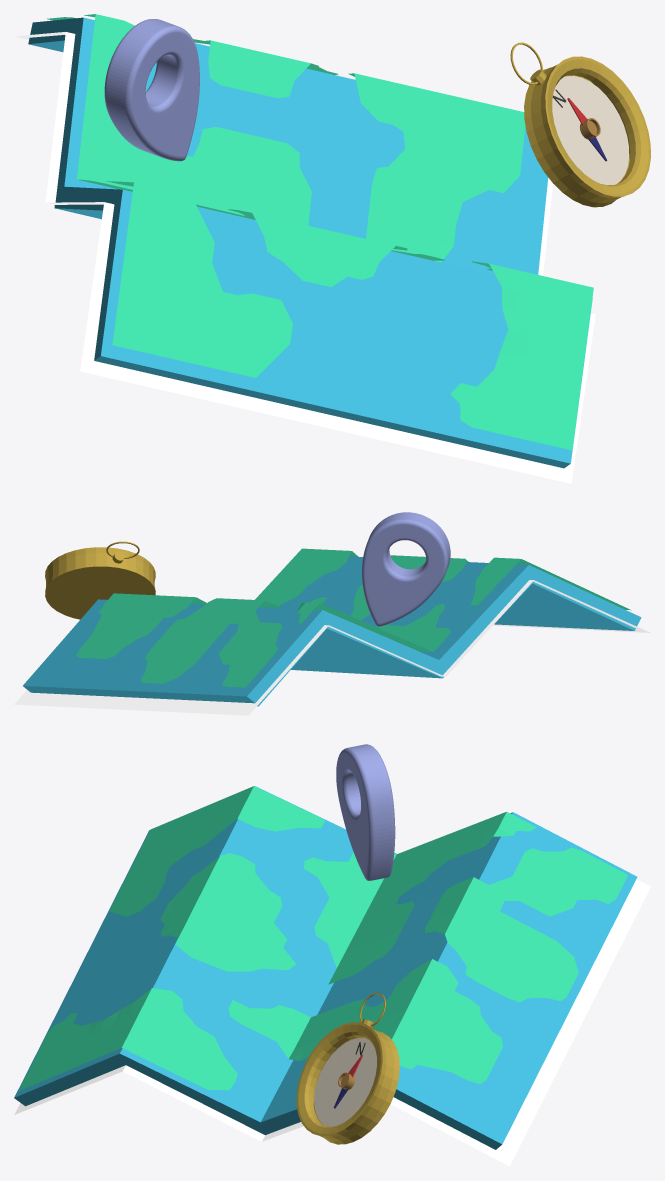
Rendered from map1.glb.
3 views of the same model, one above another, from view 1: azimuth 30°, elevation 25°; view 2: azimuth 150°, elevation 25°; view 3: azimuth 270°, elevation 25° (orthographic). The views are drawn at different scales.
Parts seen in each view (by area): view 1: thick map base.001, thick map base, map outer base, 지도 핀, 나침반 본체, 나침반 본체.001; view 2: thick map base, thick map base.001, 지도 핀, 나침반 본체, map outer base; view 3: thick map base.001, thick map base, map outer base, 지도 핀, 나침반 본체, 나침반 본체.001.
Boxes of the visible parts, bbox=[...] form: thick map base.001: bbox=[47, 14, 593, 450]; thick map base: bbox=[28, 17, 592, 468]; map outer base: bbox=[14, 32, 595, 483]; 지도 핀: bbox=[104, 19, 199, 161]; 나침반 본체: bbox=[510, 42, 650, 207]; 나침반 본체.001: bbox=[552, 76, 629, 184]; thick map base: bbox=[23, 556, 641, 706]; thick map base.001: bbox=[76, 548, 631, 687]; 지도 핀: bbox=[362, 512, 450, 626]; 나침반 본체: bbox=[45, 541, 155, 619]; map outer base: bbox=[14, 580, 650, 715]; thick map base.001: bbox=[18, 786, 627, 1090]; thick map base: bbox=[14, 786, 637, 1149]; map outer base: bbox=[14, 879, 650, 1166]; 지도 핀: bbox=[336, 744, 395, 880]; 나침반 본체: bbox=[296, 992, 399, 1144]; 나침반 본체.001: bbox=[314, 1038, 376, 1126].
Bounding box in the file's own units: 5.69 × 2.76 × 5.6.
